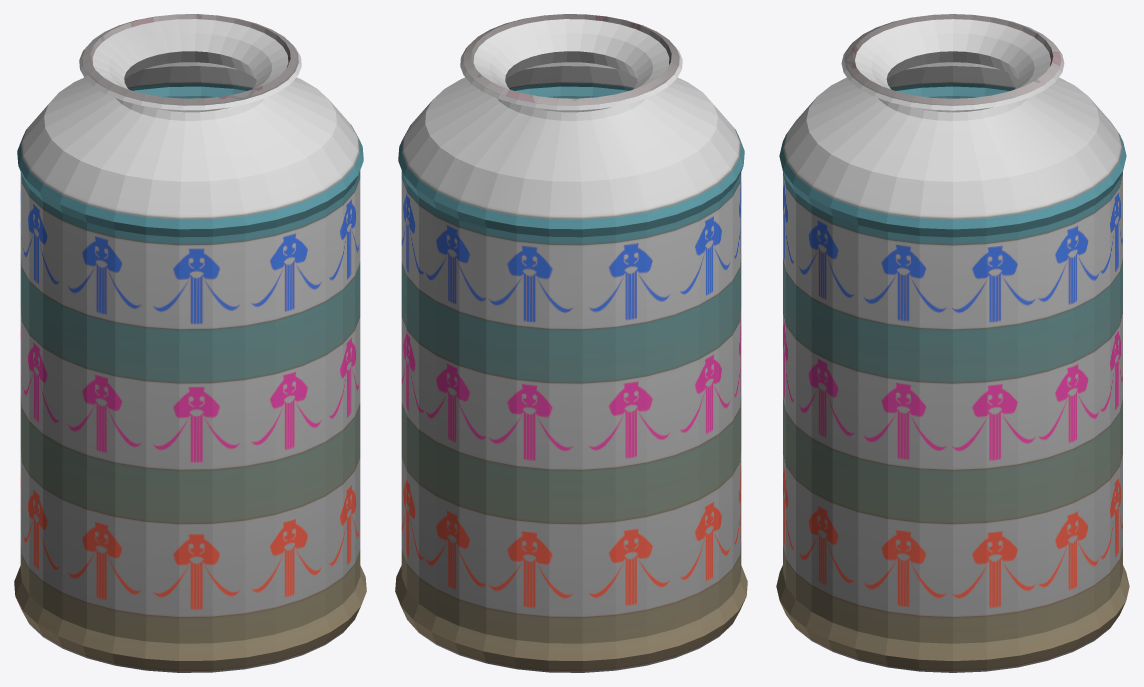
File: KanAndOilMaya_A.fbx
3 views of the same model, side by side, from view 1: azimuth 30°, elevation 25°; view 2: azimuth 150°, elevation 25°; view 3: azimuth 270°, elevation 25° (orthographic).
Visible parts, largest first — view 1: Kann1; view 2: Kann1; view 3: Kann1.
Part boxes in pixels (bbox=[...]): Kann1: bbox=[14, 14, 366, 672]; Kann1: bbox=[395, 14, 747, 672]; Kann1: bbox=[776, 14, 1129, 672].
Size of the model in its own units: 208 by 353 by 208.
1 material, 1 textured.
